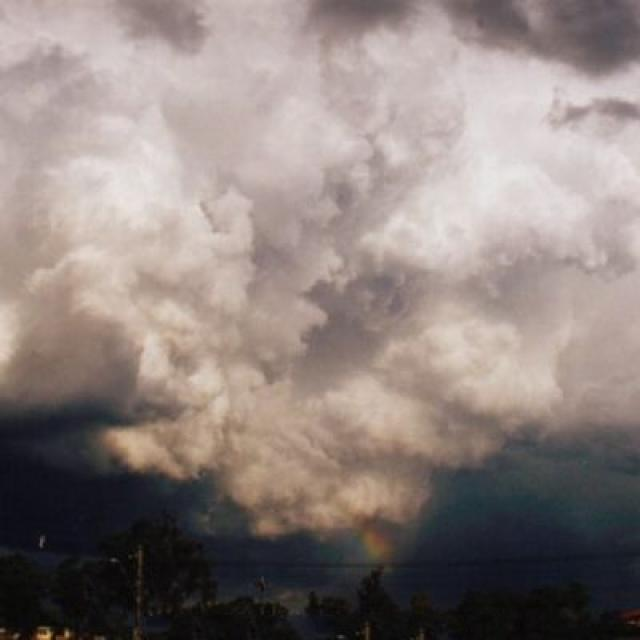Cb: (1, 21, 640, 431)
